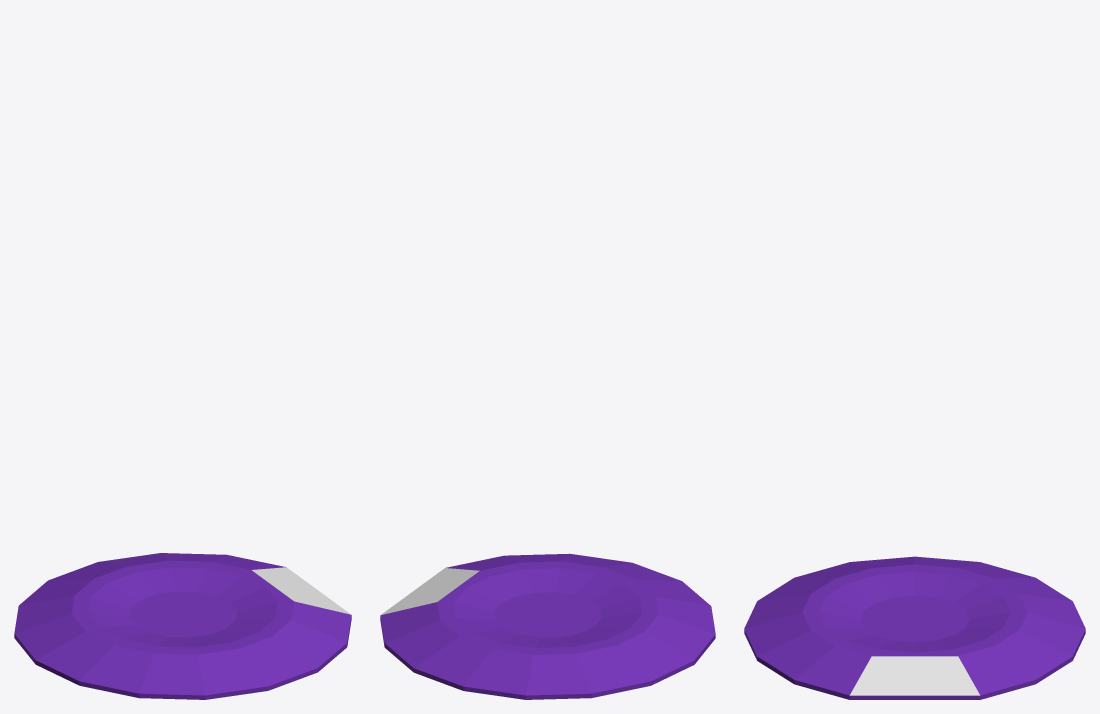
File: tpPod.fbx
The picture shows the model from 3 angles, left to right: view 1: azimuth 30°, elevation 25°; view 2: azimuth 150°, elevation 25°; view 3: azimuth 270°, elevation 25°; orthographic projection.
Visible parts, largest first — view 1: Cylinder; view 2: Cylinder; view 3: Cylinder.
Part boxes in pixels (bbox=[...]): Cylinder: bbox=[14, 553, 351, 699]; Cylinder: bbox=[380, 553, 715, 699]; Cylinder: bbox=[744, 556, 1085, 699].
Bounding box in the file's own units: 144 × 300 × 150.
